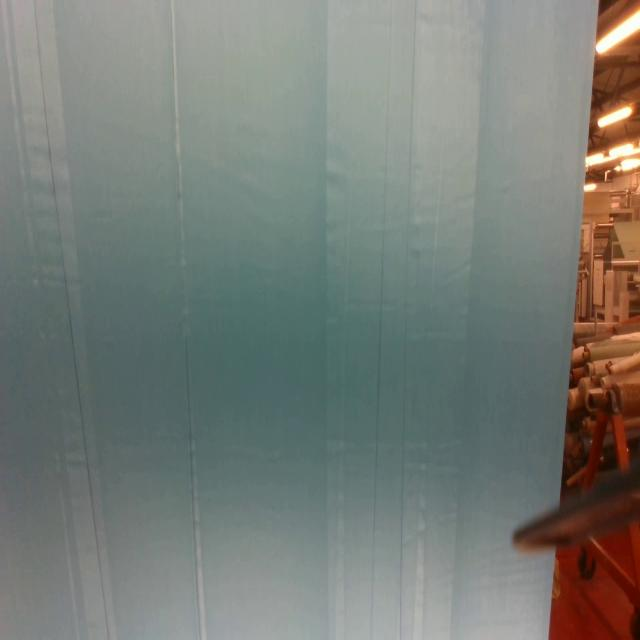crease: (31, 0, 112, 637), (168, 0, 203, 638), (368, 0, 394, 637), (398, 0, 418, 639)
